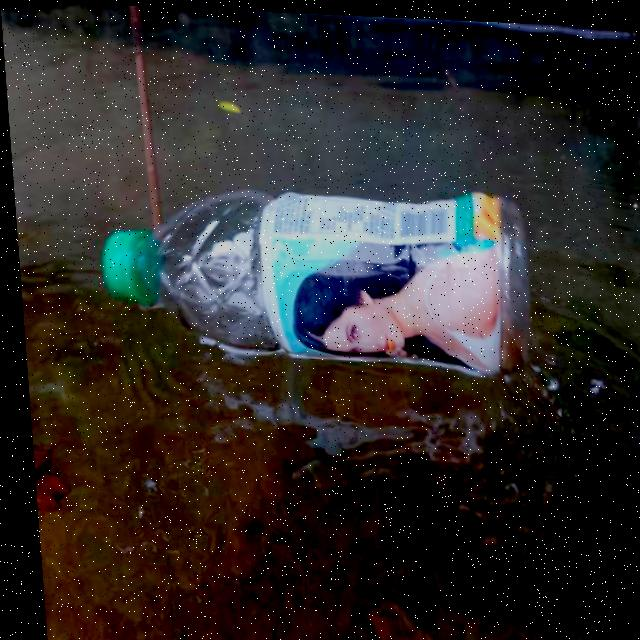leaf: (25, 432, 83, 540)
waterbottle: (76, 168, 551, 378)
